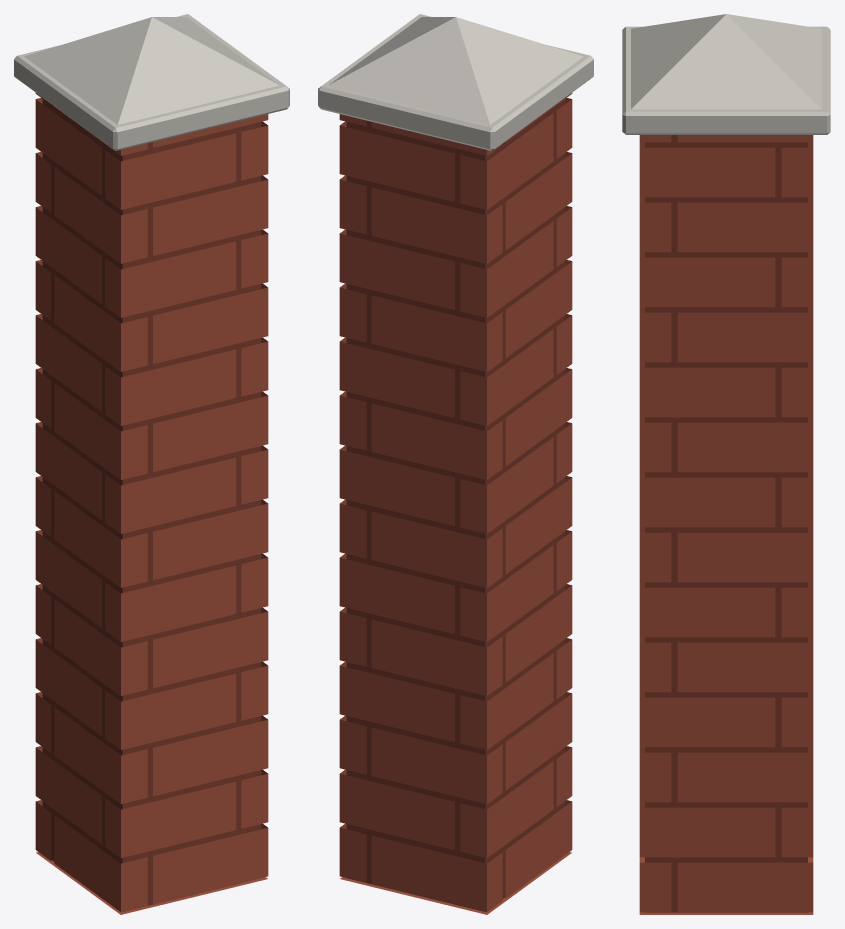
The model's file is SC_Bld_Villa_Fence_Post.gltf.
3 views of the same model, side by side, from view 1: azimuth 30°, elevation 25°; view 2: azimuth 150°, elevation 25°; view 3: azimuth 270°, elevation 25° (orthographic).
Visible parts, largest first — view 1: SC_Bld_Villa_Fence_Post; view 2: SC_Bld_Villa_Fence_Post; view 3: SC_Bld_Villa_Fence_Post.
Part boxes in pixels (x1,y1,x2,y2): SC_Bld_Villa_Fence_Post: (14,14,289,914); SC_Bld_Villa_Fence_Post: (318,14,593,914); SC_Bld_Villa_Fence_Post: (622,14,830,914).
Bounding box in the file's own units: 0.48 × 2.2 × 0.48.
Materials: 1 (1 with a texture image).
